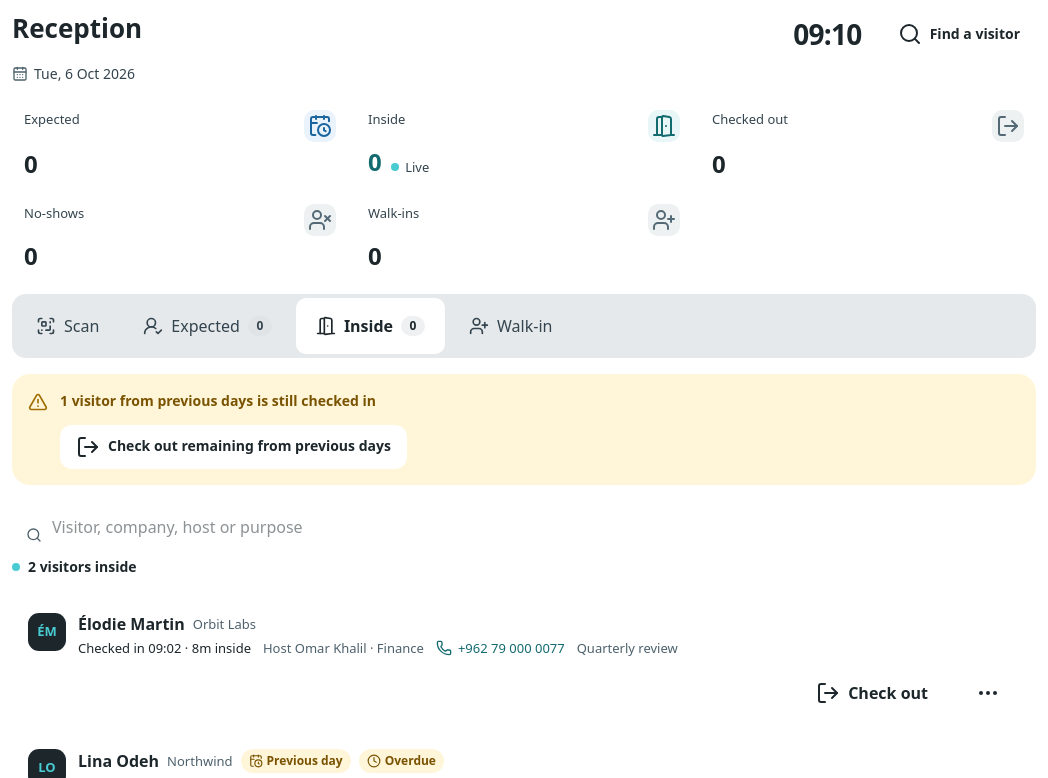
Test: Inside tab › checks a visitor out (MANUAL) in one tap (§10), with an outlined button
The image size is (1048, 778).
Expected: the text "2 visitors inside" is shown, [12, 557, 137, 576]
Step 1. Click the button "Check out" → (872, 693), box [796, 669, 948, 717]
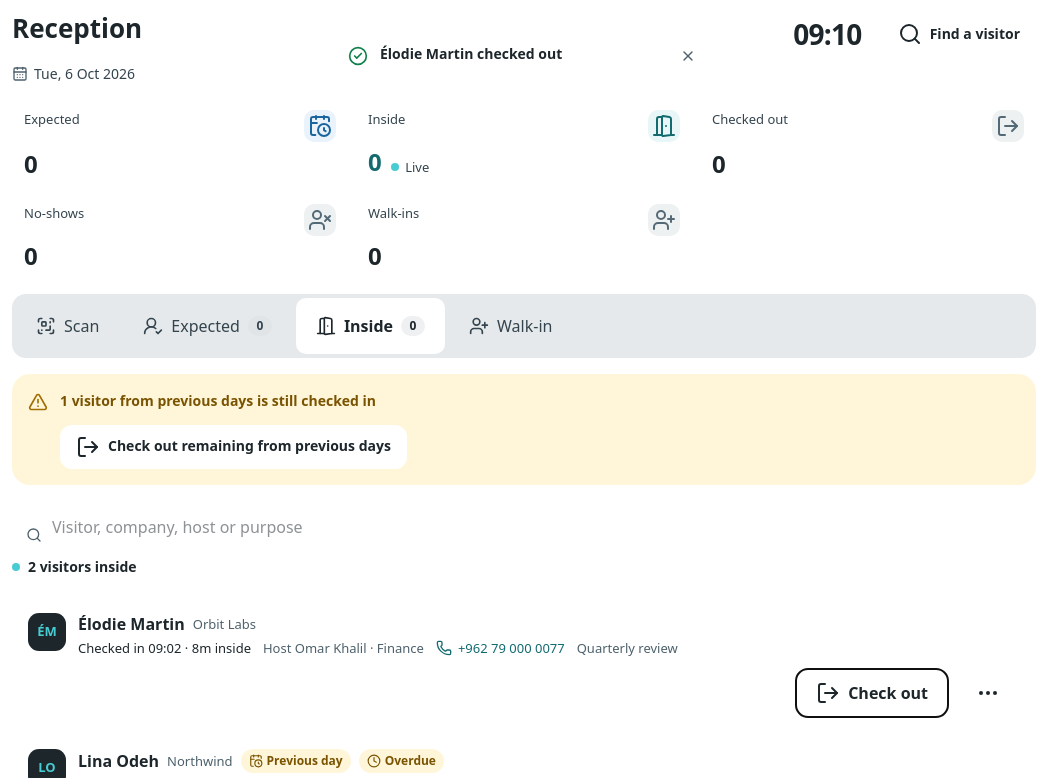
Result: the text "Élodie Martin checked out" is shown at [380, 44, 562, 63]
